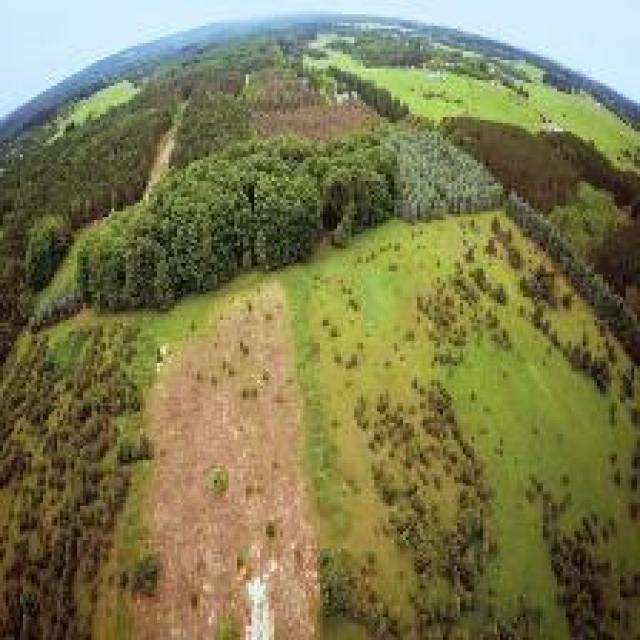other: (208, 546, 322, 629)
